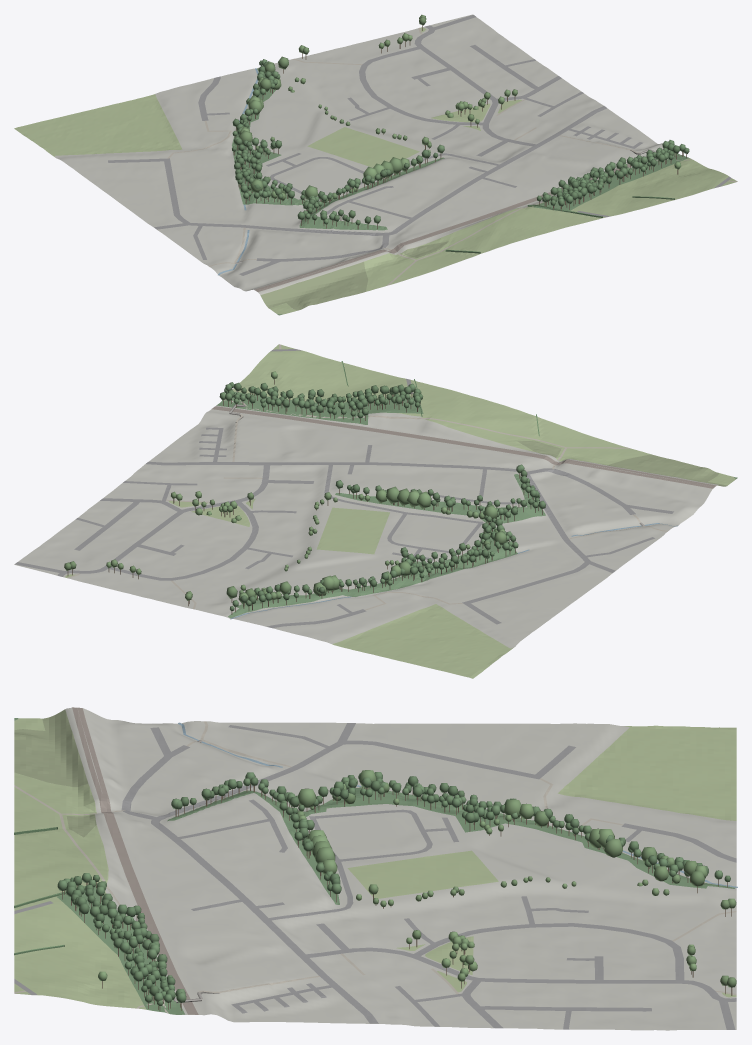
The picture shows the model from 3 angles, top to bottom: view 1: azimuth 30°, elevation 25°; view 2: azimuth 150°, elevation 25°; view 3: azimuth 270°, elevation 25°; orthographic projection. The views are drawn at different scales.
Parts seen in each view (by area): view 1: t03_02_terrain, t03_02_roads_minor, way/942802005@t03_02, way/1083250221@t03_02_canopy, way/127089017@t03_02, way/788915337@t03_02, t03_02_trees_mapped, way/646965006@t03_02_canopy, way/646964997@t03_02, way/788915339@t03_02, way/1083250221@t03_02, way/1082747614@t03_02 (+4 smaller); view 2: t03_02_terrain, t03_02_roads_minor, way/942802005@t03_02, way/1083250221@t03_02_canopy, way/127089017@t03_02, way/788915337@t03_02, t03_02_trees_mapped, way/1083250221@t03_02, way/646965006@t03_02_canopy, way/788915339@t03_02, way/1082747614@t03_02, t03_02_rail (+3 smaller); view 3: t03_02_terrain, t03_02_roads_minor, way/942802005@t03_02, way/127089017@t03_02, way/1083250221@t03_02_canopy, t03_02_trees_mapped, way/646965006@t03_02_canopy, way/788915337@t03_02, way/1083250221@t03_02, way/1082747614@t03_02, way/646964997@t03_02, way/788915339@t03_02 (+4 smaller).
Part boxes in pixels (left/top/right/bottom): t03_02_terrain: left=44, top=14, right=663, bottom=308; t03_02_roads_minor: left=108, top=14, right=731, bottom=275; way/942802005@t03_02: left=14, top=94, right=182, bottom=156; way/1083250221@t03_02_canopy: left=232, top=59, right=444, bottom=229; way/127089017@t03_02: left=532, top=158, right=737, bottom=218; way/788915337@t03_02: left=420, top=206, right=601, bottom=253; t03_02_trees_mapped: left=238, top=14, right=681, bottom=202; way/646965006@t03_02_canopy: left=536, top=140, right=689, bottom=211; way/646964997@t03_02: left=260, top=261, right=368, bottom=310; way/788915339@t03_02: left=269, top=250, right=479, bottom=314; way/1083250221@t03_02: left=232, top=68, right=444, bottom=230; way/1082747614@t03_02: left=307, top=127, right=419, bottom=167; t03_02_terrain: left=14, top=405, right=722, bottom=664; t03_02_roads_minor: left=15, top=349, right=673, bottom=628; way/942802005@t03_02: left=332, top=604, right=513, bottom=678; way/1083250221@t03_02_canopy: left=230, top=464, right=545, bottom=614; way/127089017@t03_02: left=232, top=344, right=421, bottom=416; way/788915337@t03_02: left=415, top=381, right=538, bottom=451; t03_02_trees_mapped: left=64, top=371, right=506, bottom=606; way/1083250221@t03_02: left=228, top=474, right=545, bottom=618; way/646965006@t03_02_canopy: left=219, top=382, right=422, bottom=422; way/788915339@t03_02: left=537, top=417, right=735, bottom=485; way/1082747614@t03_02: left=316, top=507, right=389, bottom=554; t03_02_rail: left=212, top=406, right=716, bottom=488; t03_02_terrain: left=15, top=707, right=736, bottom=1030; t03_02_roads_minor: left=14, top=723, right=736, bottom=1029; way/942802005@t03_02: left=558, top=725, right=736, bottom=820; way/127089017@t03_02: left=14, top=891, right=146, bottom=1009; way/1083250221@t03_02_canopy: left=171, top=772, right=730, bottom=902; t03_02_trees_mapped: left=98, top=770, right=736, bottom=995; way/646965006@t03_02_canopy: left=57, top=873, right=186, bottom=1010; way/788915337@t03_02: left=14, top=824, right=108, bottom=908; way/1083250221@t03_02: left=167, top=786, right=734, bottom=904; way/1082747614@t03_02: left=347, top=850, right=498, bottom=898; way/646964997@t03_02: left=14, top=709, right=88, bottom=786; way/788915339@t03_02: left=14, top=718, right=96, bottom=835.
Size of the model in its own units: 502 by 40.46 by 501.
